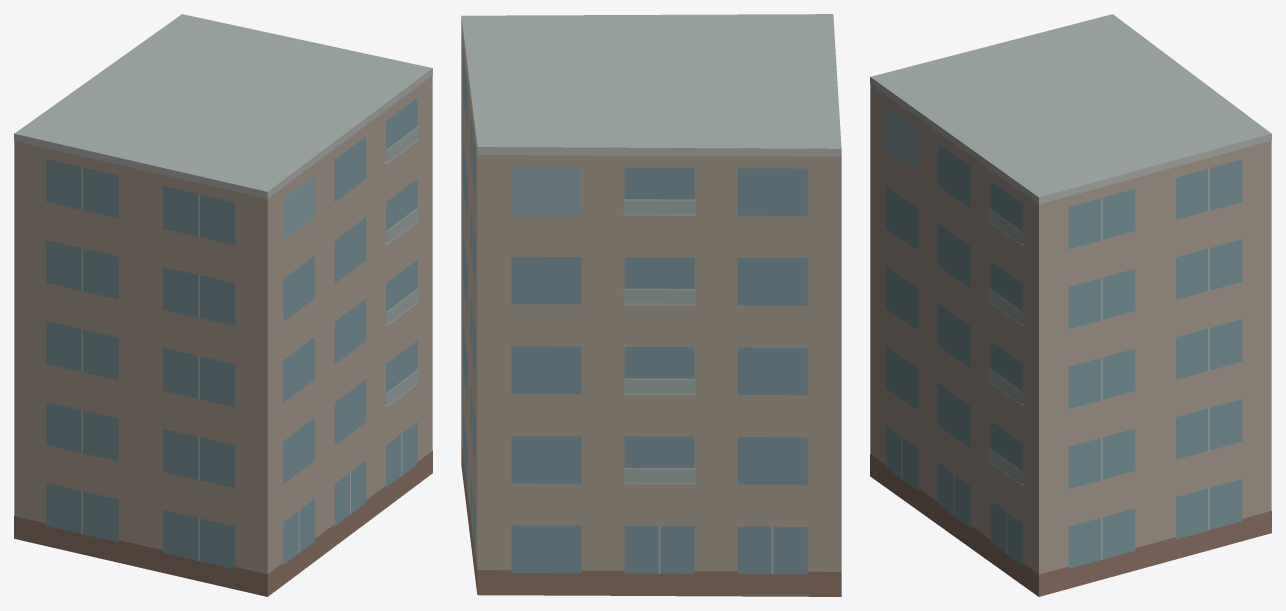
File: survey-upis-32538264.glb
3 views of the same model, side by side, from view 1: azimuth 30°, elevation 25°; view 2: azimuth 150°, elevation 25°; view 3: azimuth 270°, elevation 25° (orthographic). The views are drawn at different scales.
Parts seen in each view (by area): view 1: survey-upis-32538264.tmp; view 2: survey-upis-32538264.tmp; view 3: survey-upis-32538264.tmp.
Boxes of the visible parts, x1=… form: survey-upis-32538264.tmp: x1=14, y1=14, x2=432, y2=596; survey-upis-32538264.tmp: x1=461, y1=14, x2=841, y2=596; survey-upis-32538264.tmp: x1=870, y1=14, x2=1271, y2=596.
Bounding box in the file's own units: 13.65 × 13.85 × 12.63.
